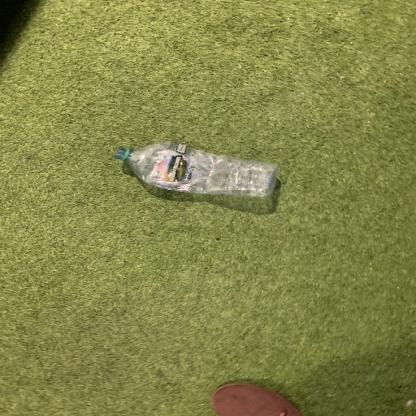trash: (111, 141, 281, 206)
